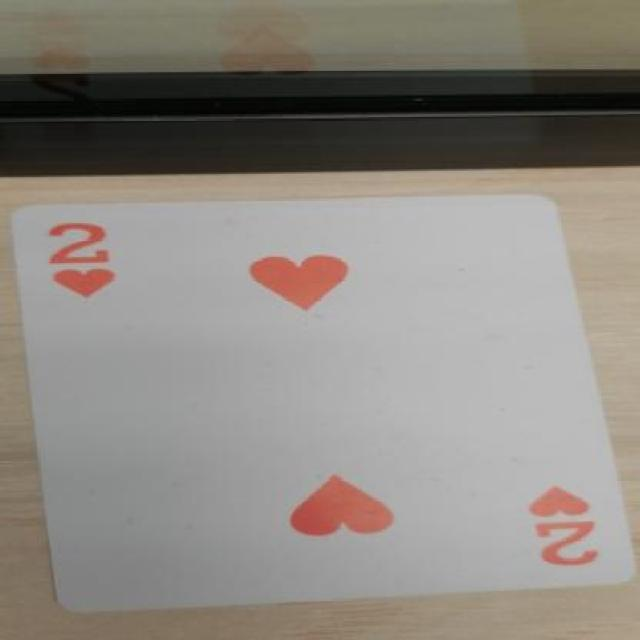2H: (489, 470, 613, 581), (32, 212, 151, 318)
